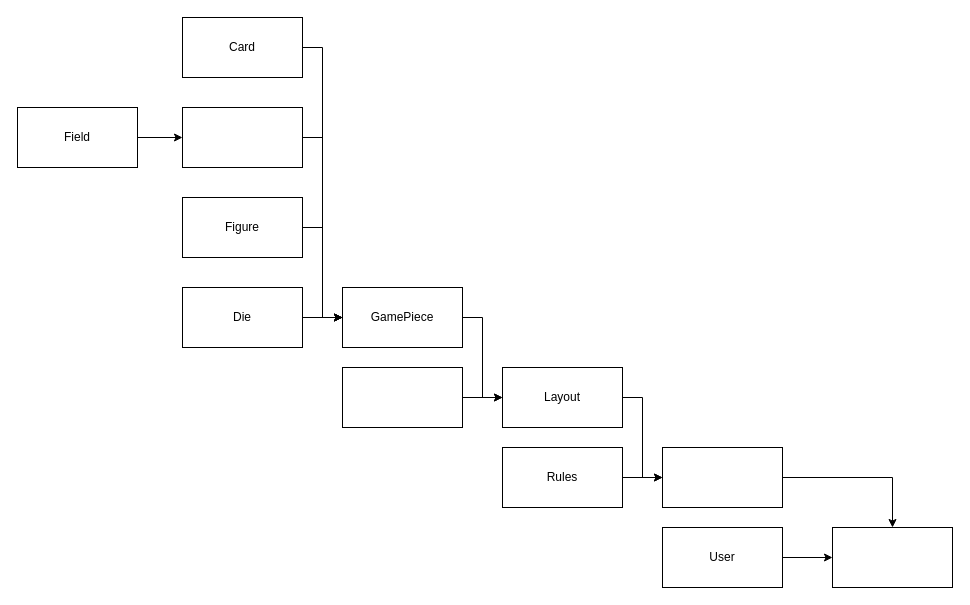
Some shapes in this 970 by 605 pixel diagram are drawn without their labels. Here are the shapes that lost their labels. From the top down, the box of each, then its label:
(182, 106, 302, 168): Board
(342, 366, 462, 428): Pile
(662, 446, 782, 508): Game
(832, 526, 952, 588): Session
